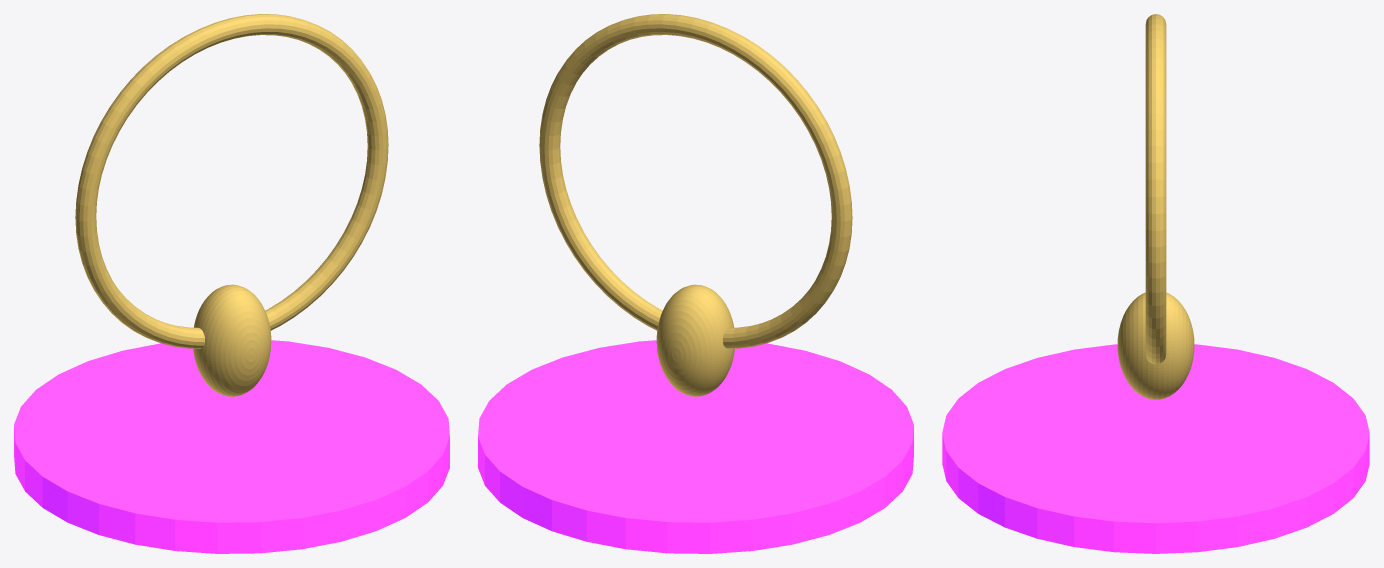
The model's file is modelling_necklace_display.glb.
3 renders of one model, left to right at view 1: azimuth 30°, elevation 25°; view 2: azimuth 150°, elevation 25°; view 3: azimuth 270°, elevation 25°, orthographic. The views are drawn at different scales.
Visible parts, largest first — view 1: 05_14_Popular_Modelling_Necklace_Display_ROOT_base, 05_14_Popular_Modelling_Necklace_Display_part_01, 05_14_Popular_Modelling_Necklace_Display_part_02; view 2: 05_14_Popular_Modelling_Necklace_Display_ROOT_base, 05_14_Popular_Modelling_Necklace_Display_part_01, 05_14_Popular_Modelling_Necklace_Display_part_02; view 3: 05_14_Popular_Modelling_Necklace_Display_ROOT_base, 05_14_Popular_Modelling_Necklace_Display_part_01, 05_14_Popular_Modelling_Necklace_Display_part_02.
Boxes of the visible parts, x1,y1,x2,y2 form: 05_14_Popular_Modelling_Necklace_Display_ROOT_base: (14,340,449,553); 05_14_Popular_Modelling_Necklace_Display_part_01: (75,14,388,348); 05_14_Popular_Modelling_Necklace_Display_part_02: (193,284,271,396); 05_14_Popular_Modelling_Necklace_Display_ROOT_base: (478,340,913,553); 05_14_Popular_Modelling_Necklace_Display_part_01: (539,14,852,348); 05_14_Popular_Modelling_Necklace_Display_part_02: (656,284,734,396); 05_14_Popular_Modelling_Necklace_Display_ROOT_base: (942,344,1369,553); 05_14_Popular_Modelling_Necklace_Display_part_01: (1145,14,1166,364); 05_14_Popular_Modelling_Necklace_Display_part_02: (1117,292,1194,399).
Bounding box in the file's own units: 0.76 × 0.85 × 0.76.
